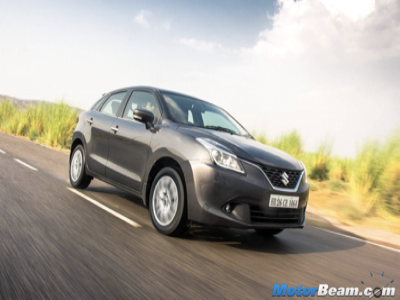licence: (266, 190, 307, 211)
